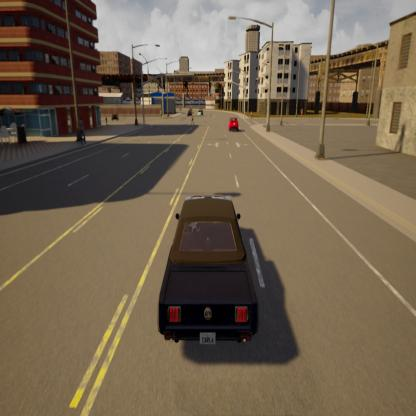Cars: (163, 189, 261, 352), (226, 113, 241, 138)
Pedestrian: (78, 114, 90, 150)
